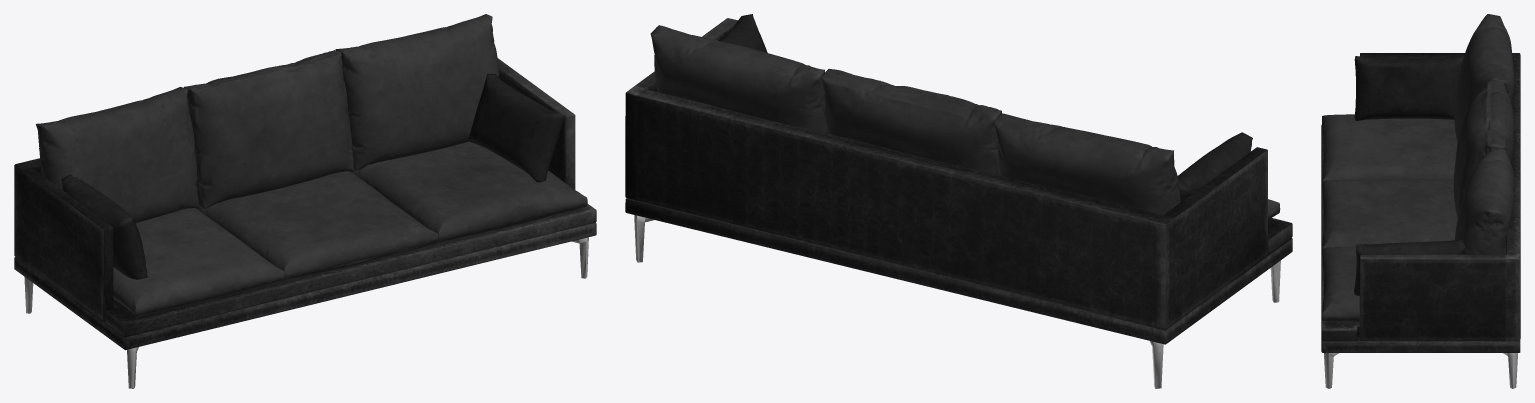
Rendered from sofa.glb.
3 renders of one model, left to right at view 1: azimuth 30°, elevation 25°; view 2: azimuth 150°, elevation 25°; view 3: azimuth 270°, elevation 25°, orthographic. The views are drawn at different scales.
Visible parts, largest first — view 1: Black Leather Sofa; view 2: Black Leather Sofa; view 3: Black Leather Sofa.
Part boxes in pixels (x1=…): Black Leather Sofa: x1=14, y1=14, x2=596, y2=388; Black Leather Sofa: x1=625, y1=14, x2=1292, y2=388; Black Leather Sofa: x1=1321, y1=14, x2=1520, y2=388.
Size of the model in its own units: 2.22 by 0.8826 by 0.9055.
1 material, 1 textured.
